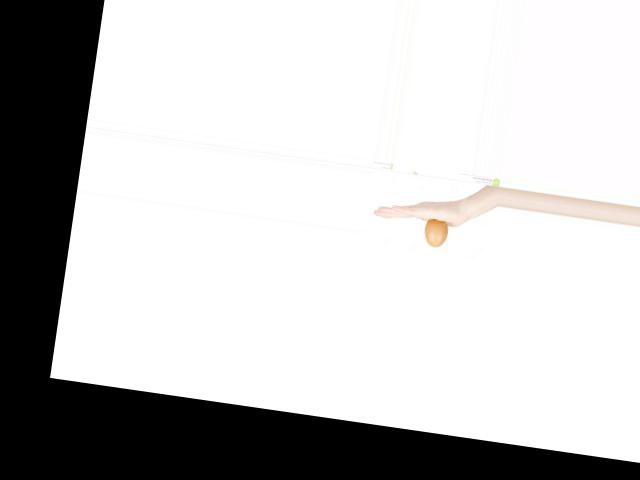egg: (422, 217, 448, 248)
